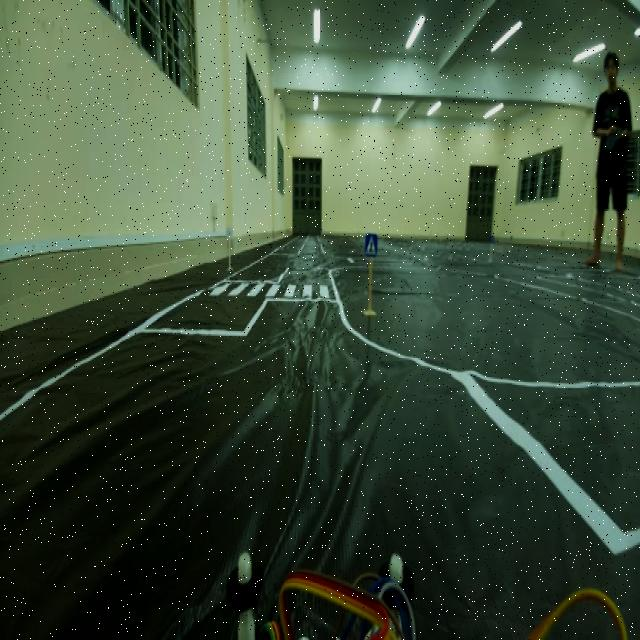crosswalk: (363, 229, 381, 262)
